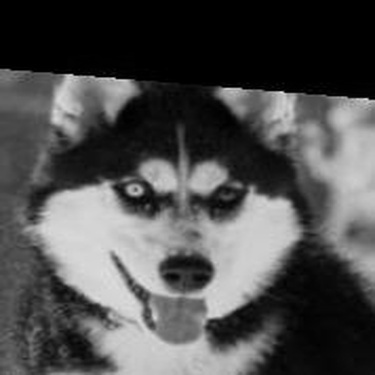dog: (6, 76, 372, 372)
